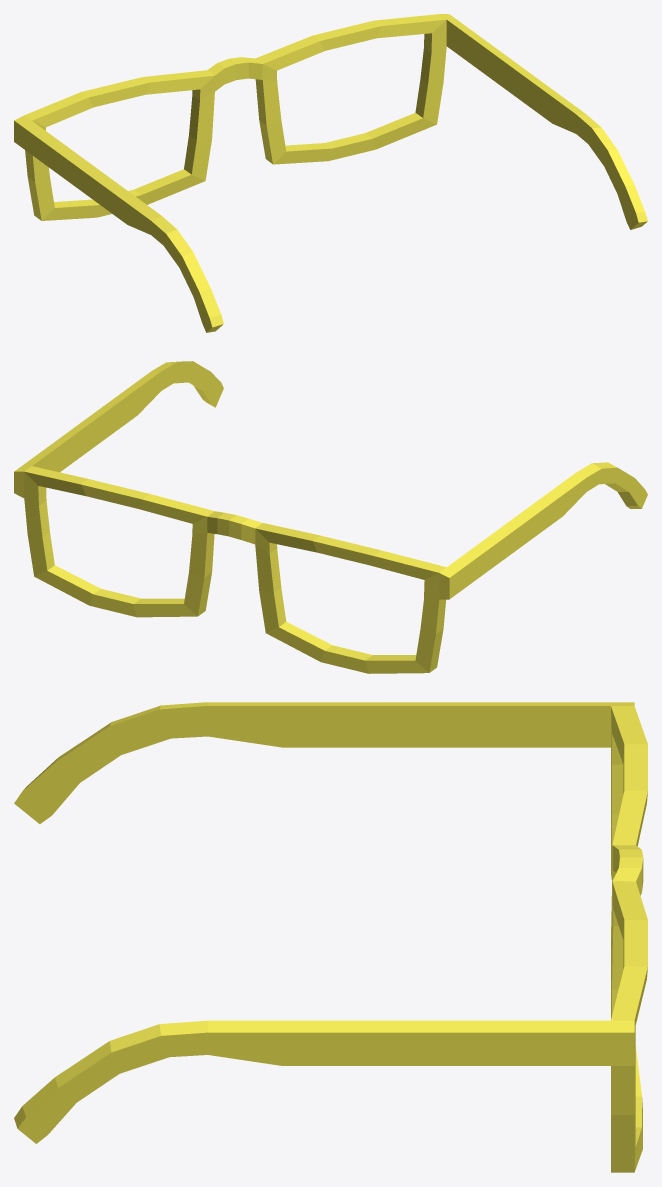
File: sunglasseslightyellow.fbx
3 renders of one model, top to bottom at view 1: azimuth 30°, elevation 25°; view 2: azimuth 150°, elevation 25°; view 3: azimuth 270°, elevation 25°, orthographic. The views are drawn at different scales.
Visible parts, largest first — view 1: Glasses_01_Plane.000; view 2: Glasses_01_Plane.000; view 3: Glasses_01_Plane.000.
Part boxes in pixels (<box>): Glasses_01_Plane.000: <box>14,14,647,332</box>; Glasses_01_Plane.000: <box>14,361,647,673</box>; Glasses_01_Plane.000: <box>14,702,647,1172</box>.
Size of the model in its own units: 14.87 by 3.94 by 12.06.
